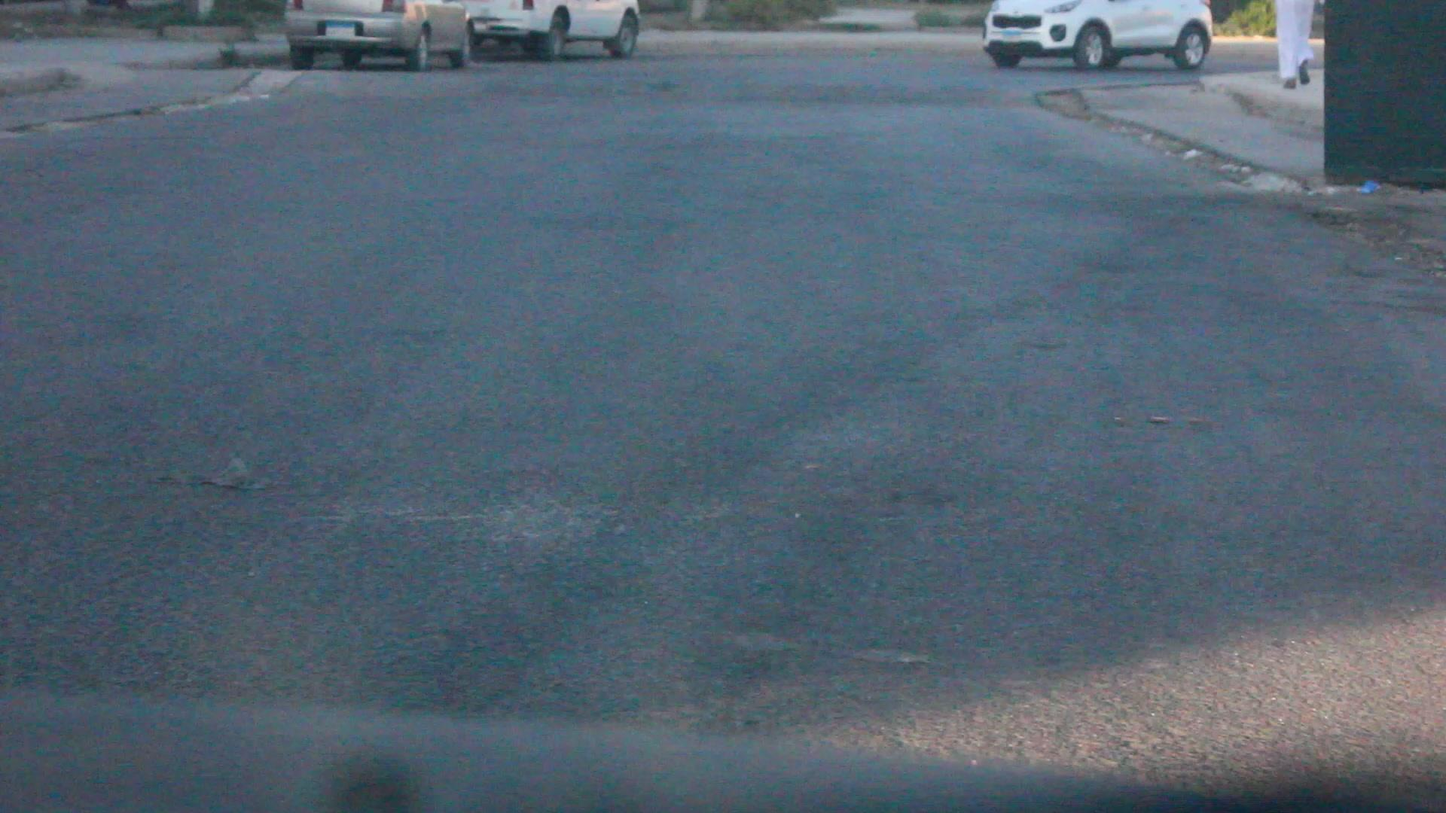Bump: (252, 70, 1051, 105)
